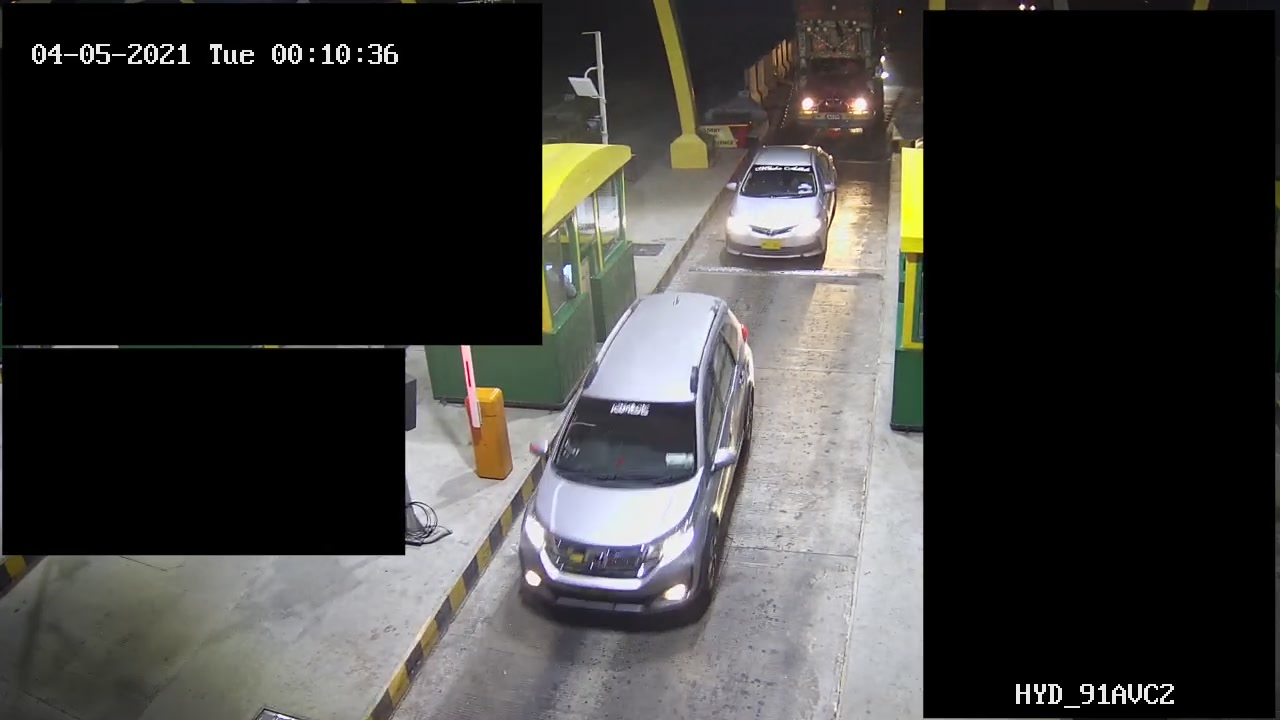F1: (507, 276, 792, 634)
